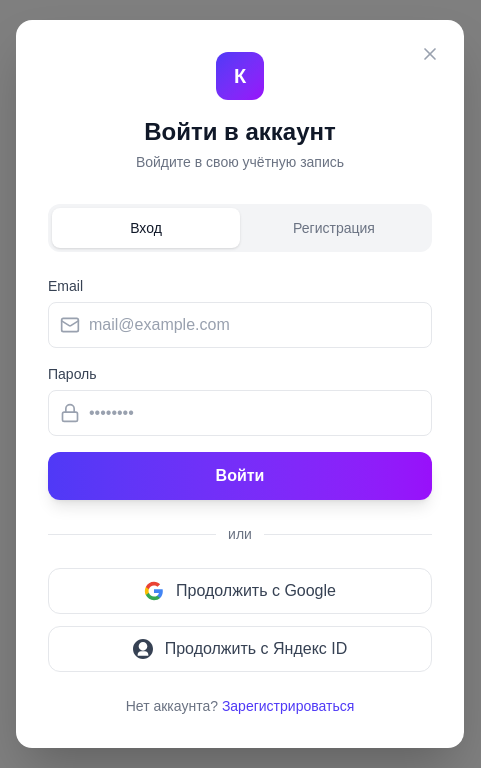
Scenario: AuthModal › switches to register mode
Click the button "Регистрация" at coordinates (334, 228), box [240,208,428,248]
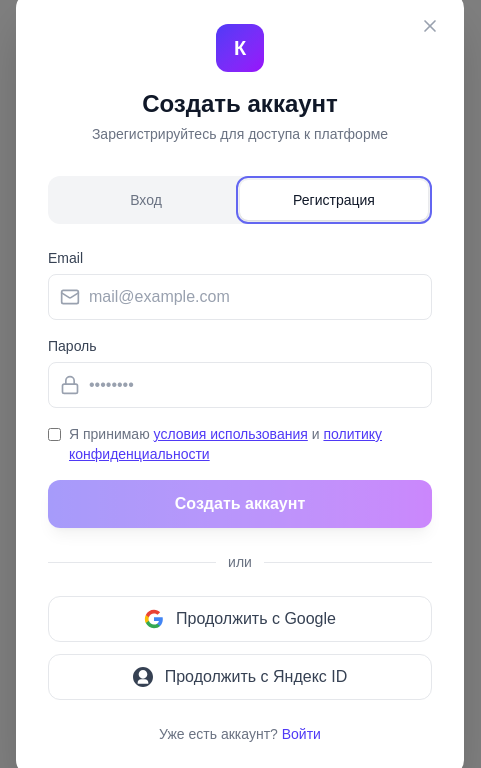
Check: the heading "Создать аккаунт" is shown, box [142,90,338,117]
